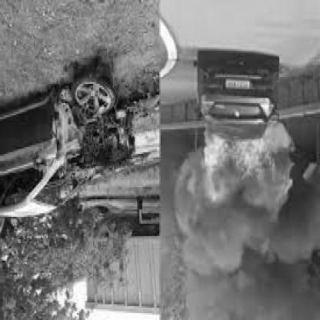Fire: (198, 132, 298, 220)
Smoke: (165, 200, 319, 318)
